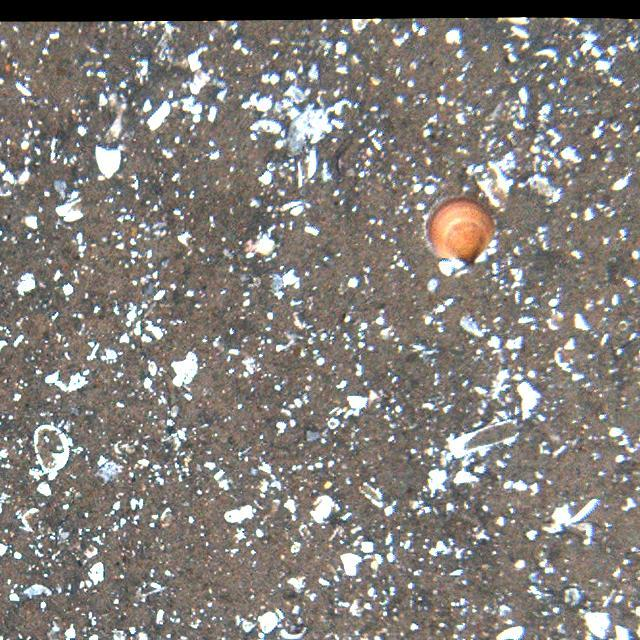scallop: (419, 196, 498, 271)
